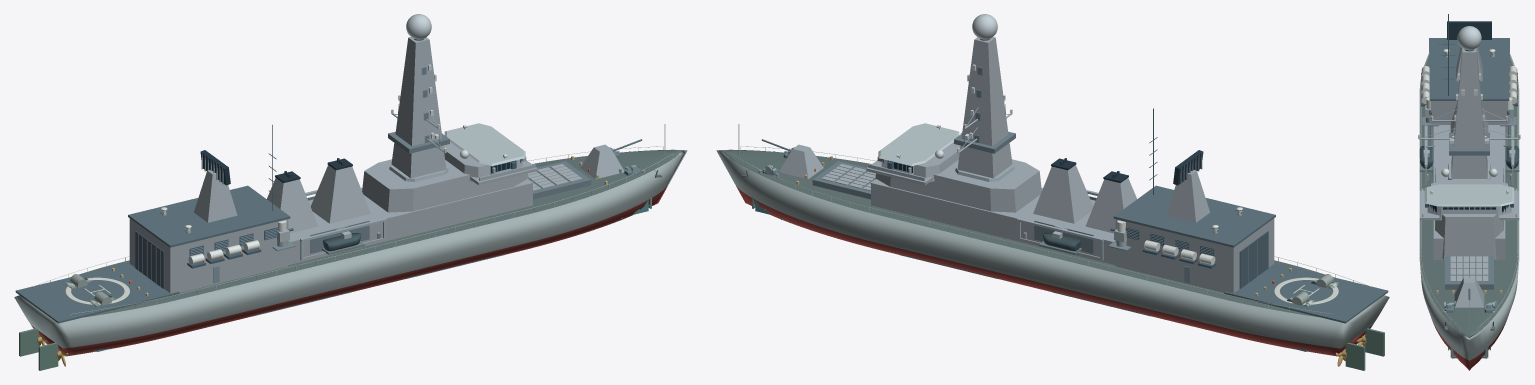
The model's file is hms-defender.lod1.glb.
3 renders of one model, left to right at view 1: azimuth 30°, elevation 25°; view 2: azimuth 150°, elevation 25°; view 3: azimuth 270°, elevation 25°, orthographic. The views are drawn at different scales.
Visible parts, largest first — view 1: hms-defender.structure.hull.outer-hull-shell.1, hms-defender.structure.decks.main-strength-deck.1, hms-defender.accommodation.naval-superstructure.enclosed-ami, hms-defender.cargo.aviation.helicopter-hangar.1, hms-defender.navigation.sensors.integrated-forward-mast.1, hms-defender.cargo.aviation.hangar-roof.1, hms-defender.structure.hull.antifouling-underwater-shell.1, hms-defender.cargo.aviation.helicopter-landing-deck.1, hms-defender.accommodation.naval-superstructure.forward-supe, hms-defender.propulsion.naval-uptakes.uptake-housing-1.1, hms-defender.navigation.bridge-detailing.bridge-roof-visor.1, hms-defender.propulsion.naval-uptakes.uptake-housing-2.1 (+7 smaller); view 2: hms-defender.structure.hull.outer-hull-shell.1, hms-defender.structure.decks.main-strength-deck.1, hms-defender.accommodation.naval-superstructure.enclosed-ami, hms-defender.cargo.aviation.helicopter-hangar.1, hms-defender.navigation.sensors.integrated-forward-mast.1, hms-defender.structure.hull.antifouling-underwater-shell.1, hms-defender.cargo.aviation.hangar-roof.1, hms-defender.cargo.aviation.helicopter-landing-deck.1, hms-defender.accommodation.naval-superstructure.forward-supe, hms-defender.propulsion.naval-uptakes.uptake-housing-1.1, hms-defender.navigation.bridge-detailing.bridge-roof-visor.1, hms-defender.propulsion.naval-uptakes.uptake-housing-2.1 (+7 smaller); view 3: hms-defender.structure.decks.main-strength-deck.1, hms-defender.navigation.sensors.integrated-forward-mast.1, hms-defender.cargo.aviation.hangar-roof.1, hms-defender.accommodation.naval-superstructure.forward-supe, hms-defender.structure.hull.outer-hull-shell.1, hms-defender.navigation.bridge-detailing.bridge-roof-visor.1, hms-defender.accommodation.naval-superstructure.enclosed-ami, hms-defender.cargo.aviation.helicopter-hangar.1, hms-defender.navigation.bridge.bridge-deck.1, hms-defender.cargo.mission-equipment.forward-mission-deck-co, hms-defender.cargo.mission-equipment.forward-gun-housing.1, hms-defender.navigation.sensors.s1850m-long-range-radar-face (+13 smaller).
Part boxes in pixels (x1,y1,x2,y2): hms-defender.structure.hull.outer-hull-shell.1: (14, 149, 687, 348); hms-defender.structure.decks.main-strength-deck.1: (79, 150, 681, 317); hms-defender.accommodation.naval-superstructure.enclosed-ami: (288, 179, 532, 264); hms-defender.cargo.aviation.helicopter-hangar.1: (129, 218, 288, 293); hms-defender.navigation.sensors.integrated-forward-mast.1: (391, 37, 446, 178); hms-defender.cargo.aviation.hangar-roof.1: (128, 185, 290, 247); hms-defender.structure.hull.antifouling-underwater-shell.1: (31, 186, 667, 356); hms-defender.cargo.aviation.helicopter-landing-deck.1: (15, 263, 179, 323); hms-defender.accommodation.naval-superstructure.forward-supe: (362, 156, 528, 212); hms-defender.propulsion.naval-uptakes.uptake-housing-1.1: (310, 165, 370, 223); hms-defender.navigation.bridge-detailing.bridge-roof-visor.1: (444, 123, 525, 166); hms-defender.propulsion.naval-uptakes.uptake-housing-2.1: (267, 178, 318, 233); hms-defender.structure.hull.outer-hull-shell.1: (716, 149, 1389, 348); hms-defender.structure.decks.main-strength-deck.1: (722, 150, 1324, 317); hms-defender.accommodation.naval-superstructure.enclosed-ami: (871, 179, 1115, 264); hms-defender.cargo.aviation.helicopter-hangar.1: (1115, 218, 1274, 293); hms-defender.navigation.sensors.integrated-forward-mast.1: (957, 37, 1012, 178); hms-defender.structure.hull.antifouling-underwater-shell.1: (736, 186, 1372, 356); hms-defender.cargo.aviation.hangar-roof.1: (1113, 185, 1275, 247); hms-defender.cargo.aviation.helicopter-landing-deck.1: (1224, 263, 1388, 323); hms-defender.accommodation.naval-superstructure.forward-supe: (875, 156, 1041, 212); hms-defender.propulsion.naval-uptakes.uptake-housing-1.1: (1033, 165, 1093, 223); hms-defender.navigation.bridge-detailing.bridge-roof-visor.1: (878, 123, 959, 166); hms-defender.propulsion.naval-uptakes.uptake-housing-2.1: (1085, 178, 1136, 233); hms-defender.structure.decks.main-strength-deck.1: (1420, 57, 1518, 337); hms-defender.navigation.sensors.integrated-forward-mast.1: (1451, 48, 1487, 178); hms-defender.cargo.aviation.hangar-roof.1: (1429, 43, 1509, 100); hms-defender.accommodation.naval-superstructure.forward-supe: (1435, 154, 1503, 259); hms-defender.structure.hull.outer-hull-shell.1: (1419, 54, 1519, 360); hms-defender.navigation.bridge-detailing.bridge-roof-visor.1: (1424, 184, 1514, 206); hms-defender.accommodation.naval-superstructure.enclosed-ami: (1433, 125, 1505, 259); hms-defender.cargo.aviation.helicopter-hangar.1: (1431, 101, 1507, 145); hms-defender.navigation.bridge.bridge-deck.1: (1430, 180, 1508, 220); hms-defender.cargo.mission-equipment.forward-mission-deck-co: (1445, 256, 1493, 289); hms-defender.cargo.mission-equipment.forward-gun-housing.1: (1454, 277, 1484, 307); hms-defender.navigation.sensors.s1850m-long-range-radar-face: (1447, 21, 1491, 39).
Bounding box in the file's own units: 153 × 56.21 × 21.76.
